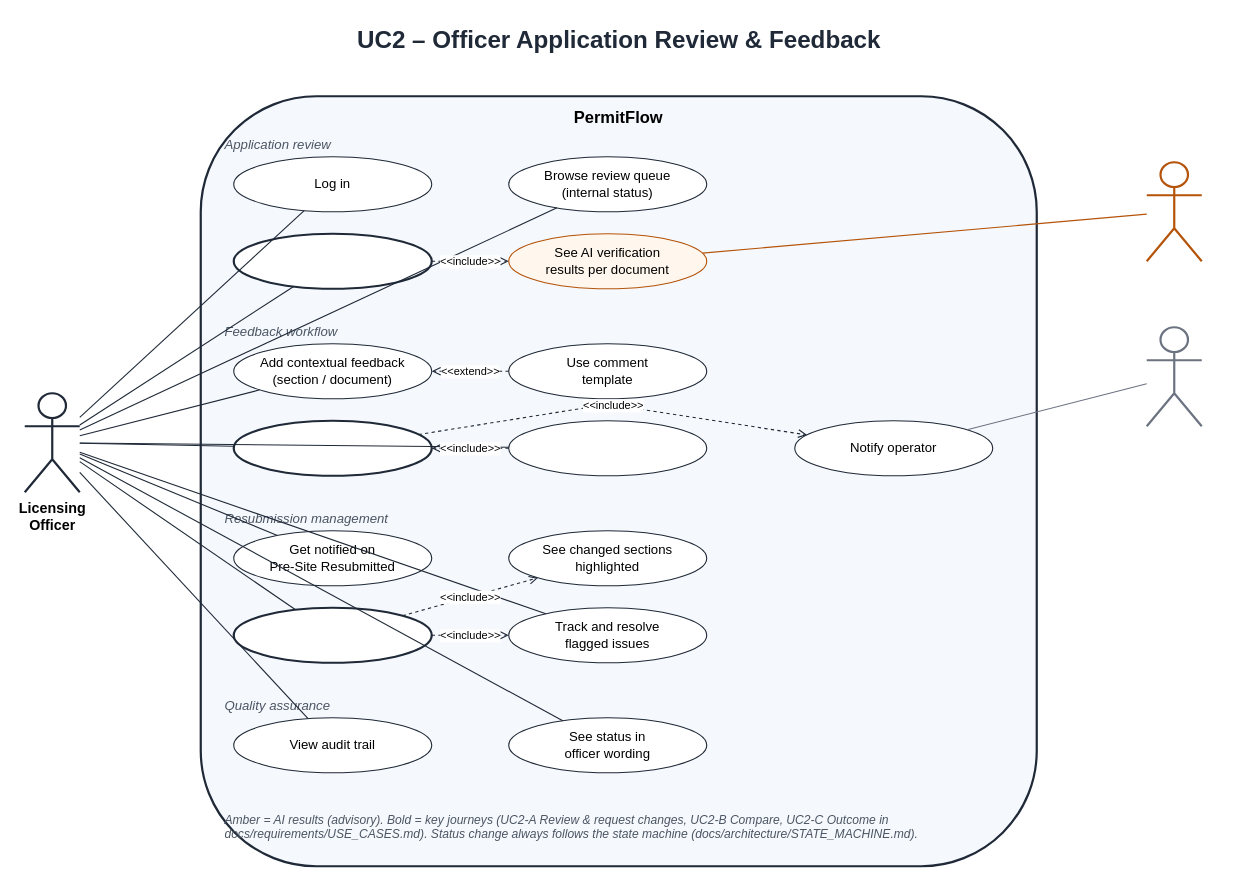
This 1239x886 diagram has some shape labels left out. Here are the shapes that lost their labels. From the top down, the centre of each, then its label:
At (1173,211): "AI Provider (results only)".
At (332,260): "Review full submission (Start review)".
At (1173,376): "Operator (notified)".
At (332,447): "Change application status".
At (607,448): "Site visit · route to approval · approve / reject".
At (332,634): "Compare revisions".
